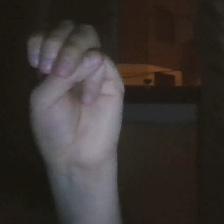M: (16, 12, 134, 181)
